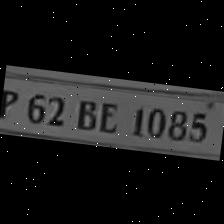0: (140, 102, 166, 138)
1: (124, 100, 146, 138)
2: (41, 89, 69, 129)
5: (183, 104, 211, 144)
6: (18, 86, 48, 124)
8: (162, 105, 188, 142)
B: (68, 92, 100, 130)
E: (93, 94, 122, 135)
P: (0, 84, 20, 121)
